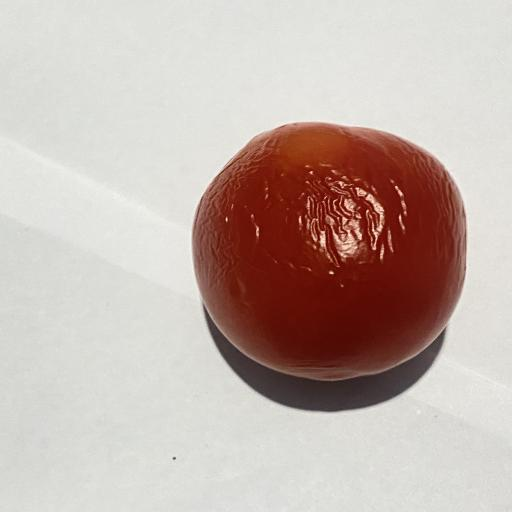spoiled: (284, 255, 286, 257)
